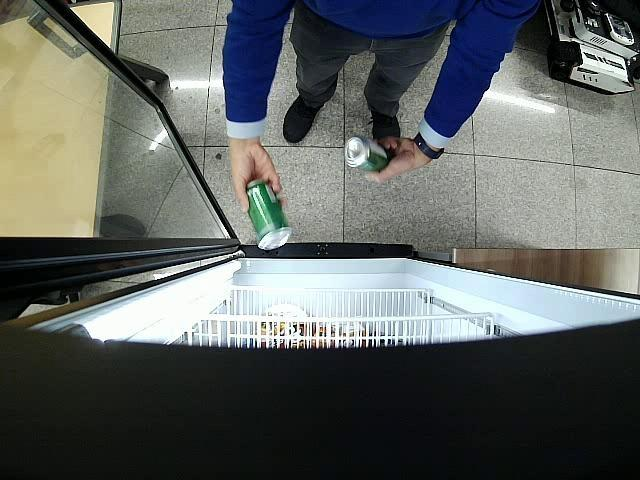12_chilsungCider: (246, 181, 292, 250), (346, 136, 388, 172)
